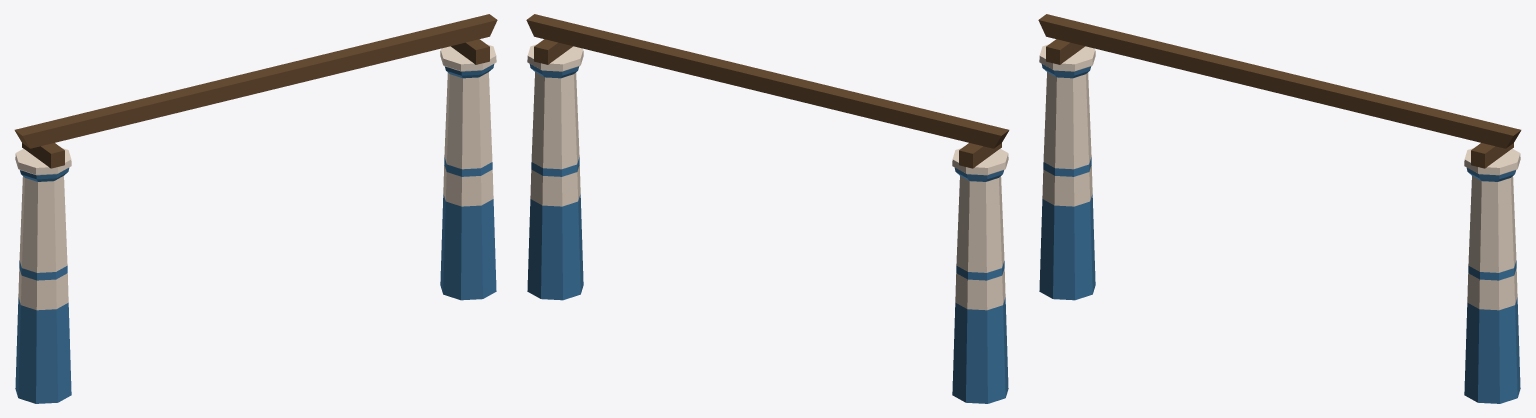
Rendered from empire-colonnade-end-empire.glb.
3 views of the same model, side by side, from view 1: azimuth 30°, elevation 25°; view 2: azimuth 150°, elevation 25°; view 3: azimuth 330°, elevation 25° (orthographic).
Parts seen in each view (by area): view 1: SM_Colonnade_End_Empire; view 2: SM_Colonnade_End_Empire; view 3: SM_Colonnade_End_Empire.
Part boxes in pixels (box(x1,y1,x2,y2)): SM_Colonnade_End_Empire: box(14, 14, 497, 403); SM_Colonnade_End_Empire: box(526, 14, 1009, 403); SM_Colonnade_End_Empire: box(1038, 14, 1521, 403).
Bounding box in the file's own units: 6.71 × 3.58 × 0.7145.
